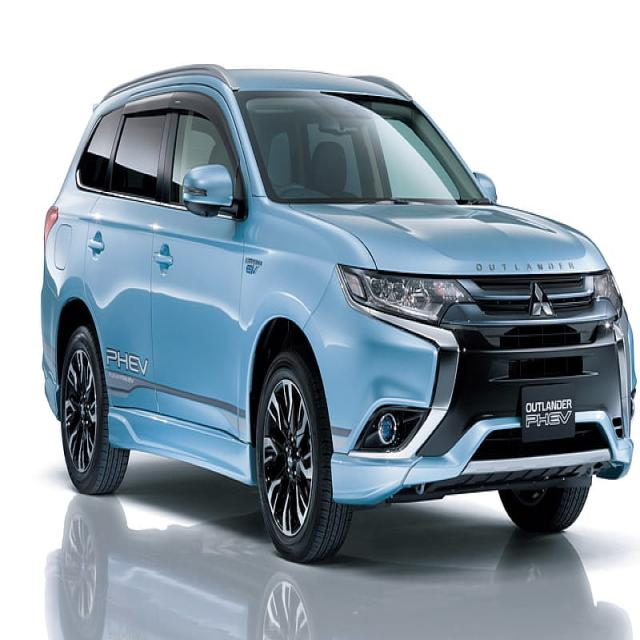light_vehicle: (39, 66, 636, 565)
